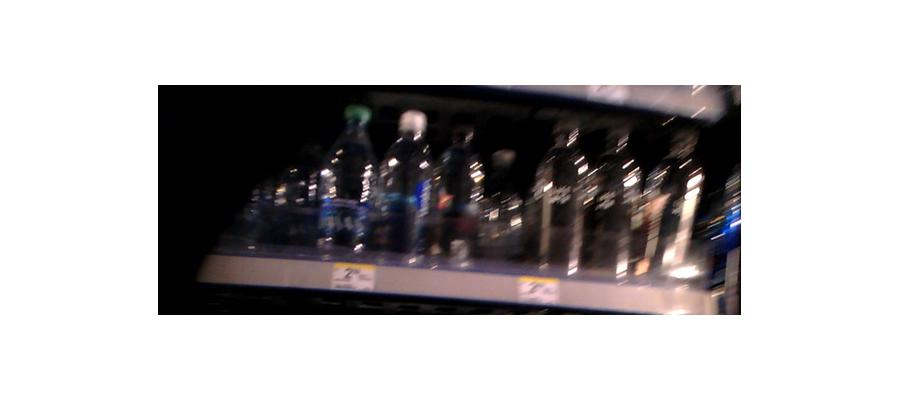bottle: (377, 113, 443, 269), (650, 122, 706, 290), (319, 101, 377, 263), (534, 123, 594, 273), (463, 142, 524, 267), (252, 137, 318, 248), (596, 139, 640, 287)
